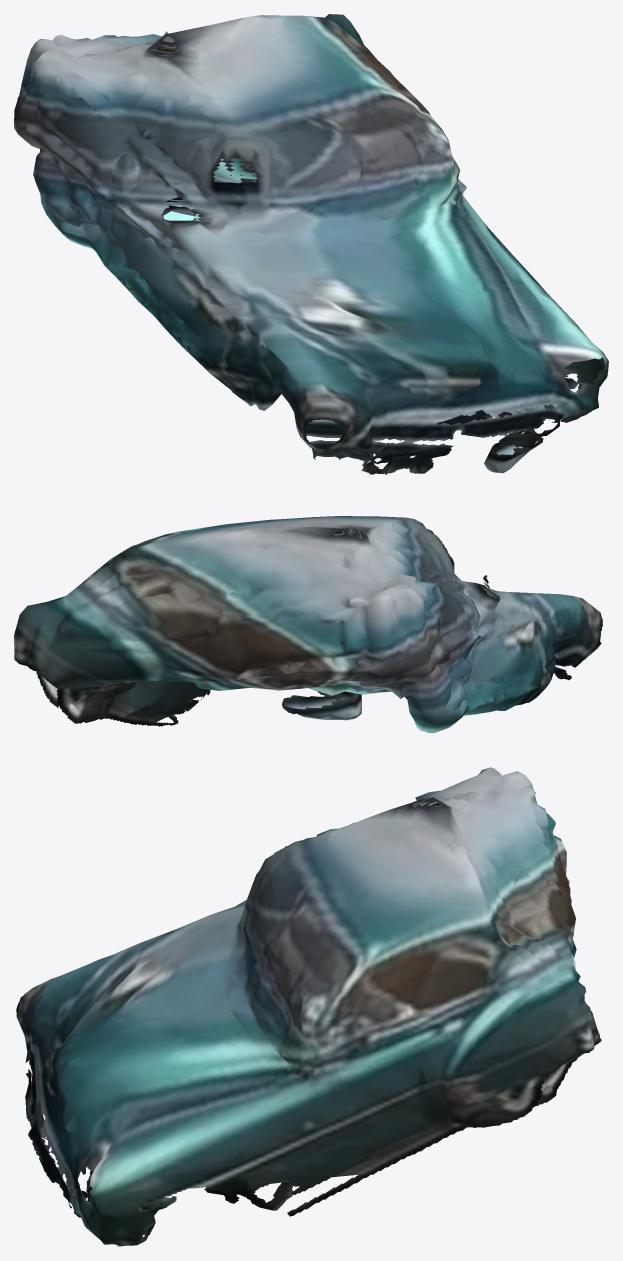
File: coupe.glb
The picture shows the model from 3 angles, top to bottom: view 1: azimuth 30°, elevation 25°; view 2: azimuth 150°, elevation 25°; view 3: azimuth 270°, elevation 25°; orthographic projection.
Parts seen in each view (by area): view 1: coupe.glb; view 2: coupe.glb; view 3: coupe.glb.
Part boxes in pixels (left/top/right/bottom): coupe.glb: left=14, top=14, right=608, bottom=474; coupe.glb: left=14, top=516, right=602, bottom=732; coupe.glb: left=16, top=767, right=601, bottom=1246.
Bounding box in the file's own units: 0.6374 × 0.5358 × 0.8303.
Materials: 1 (1 with a texture image).
